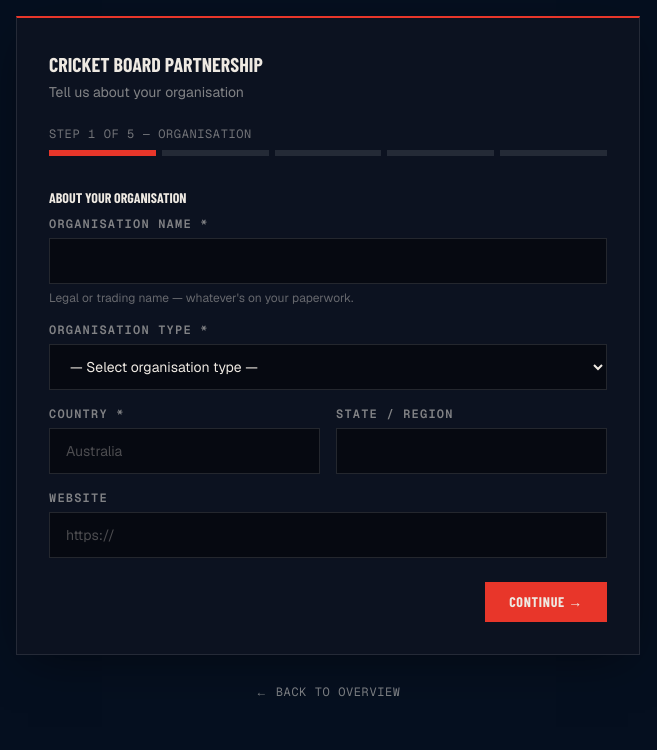
Scenario: PartnershipApplicationForm › blocks continuing past step 1 until organisation name, type and country are filled
Click the button "Continue →": (546, 602) [485, 582, 607, 622]
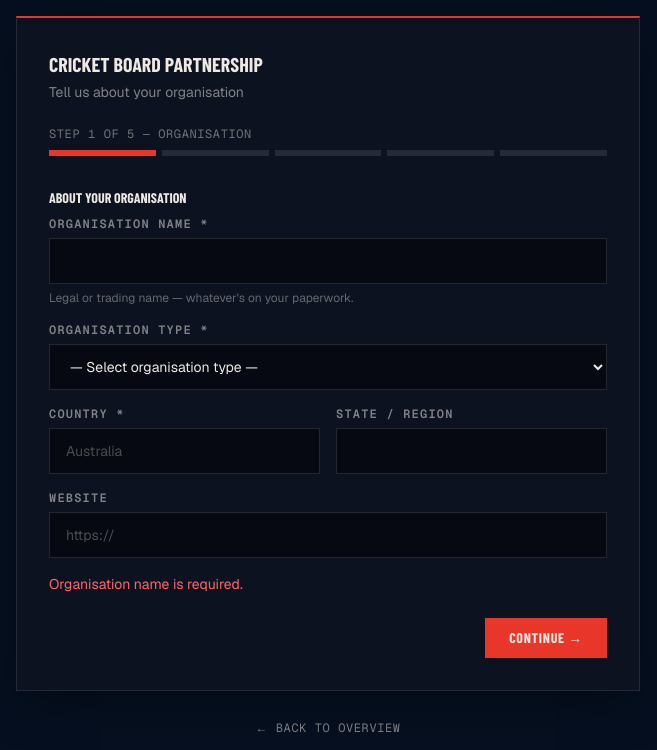
Expected: the text "Step 1 of 5 — Organisation" is shown, [49, 126, 252, 142]
Now the text "Organisation name is required." is shown, box [49, 575, 243, 593]
